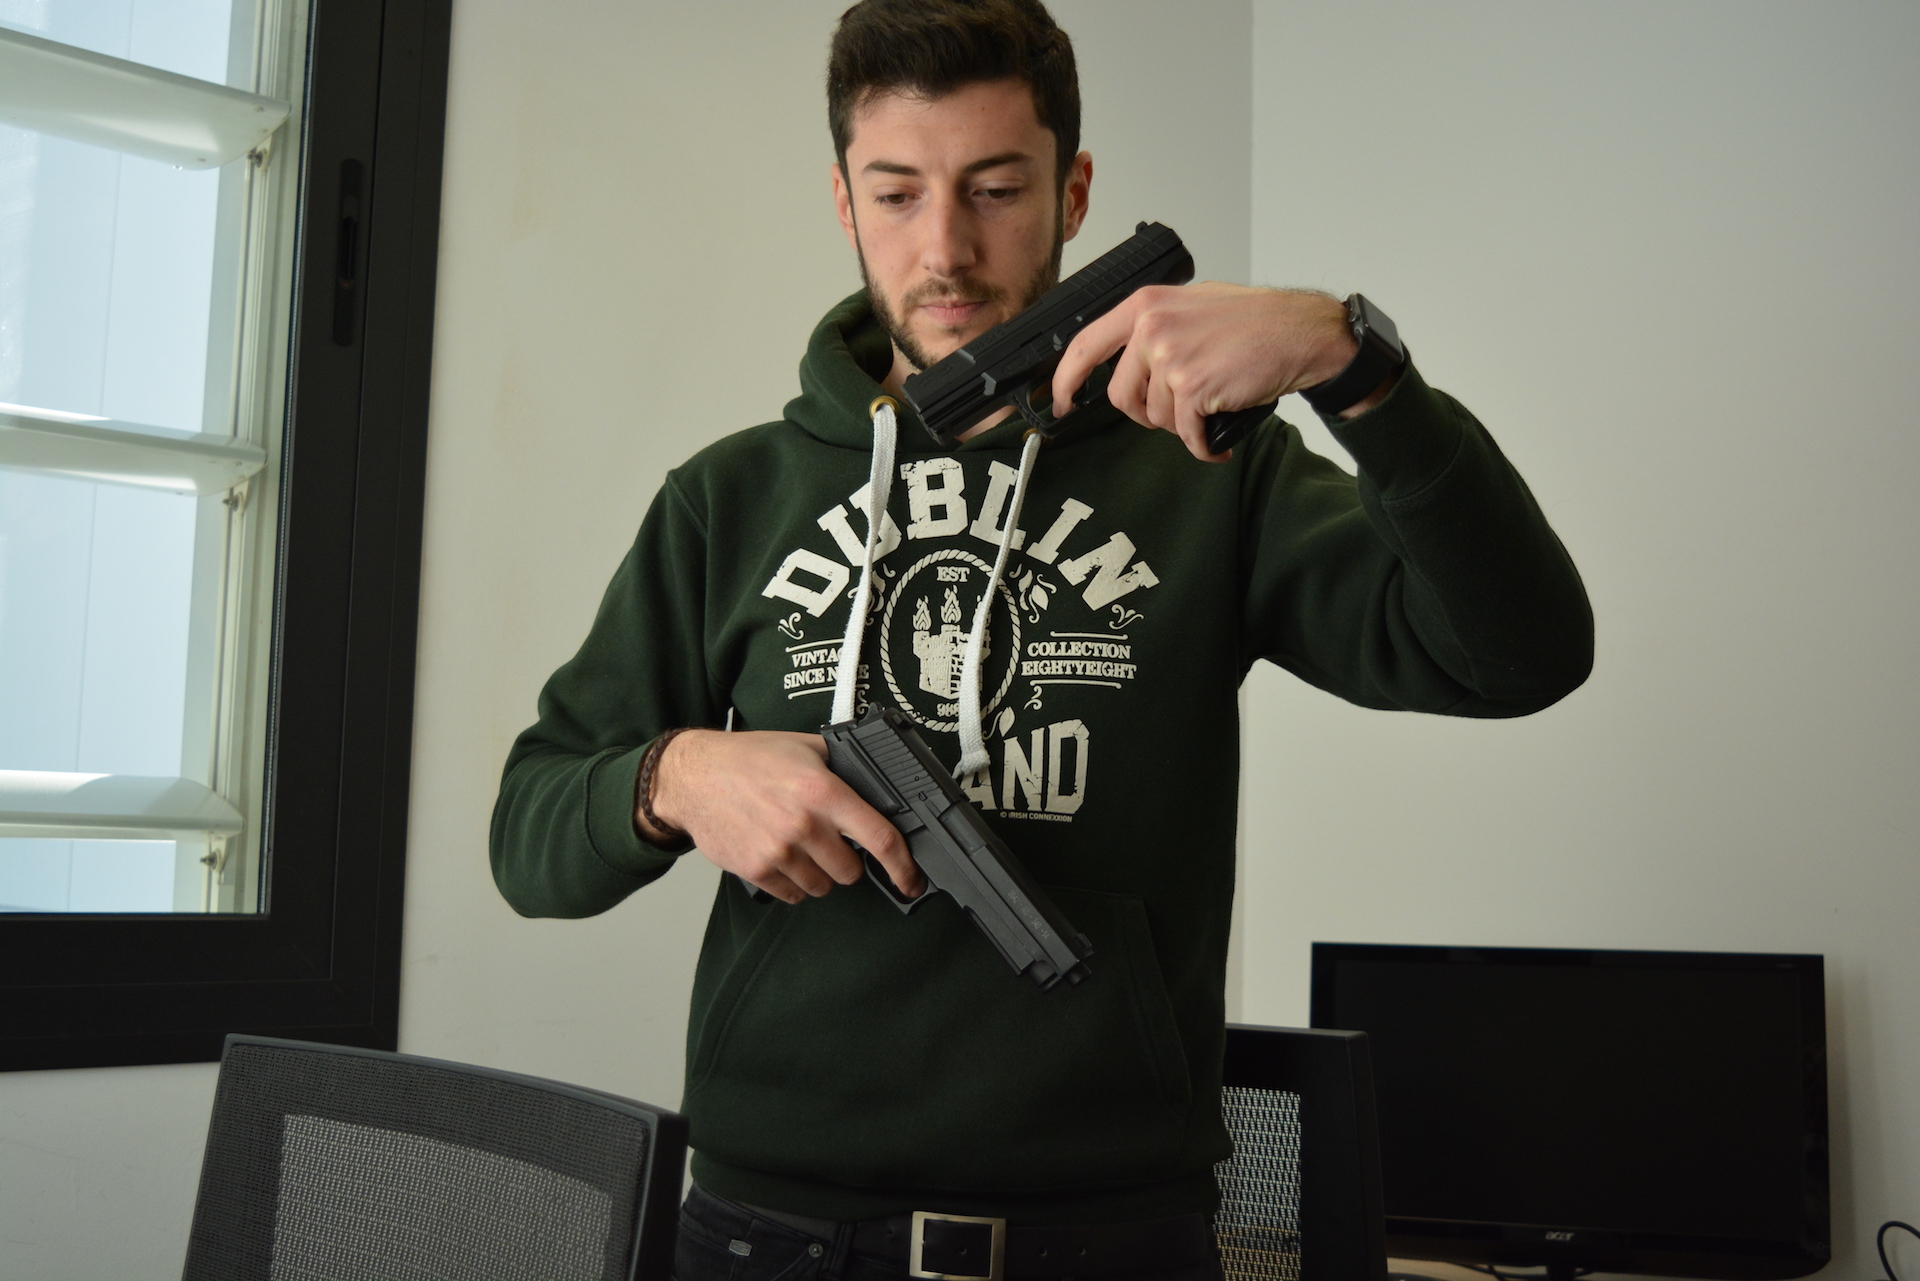pistol: (729, 701, 1102, 995), (899, 219, 1282, 459)
